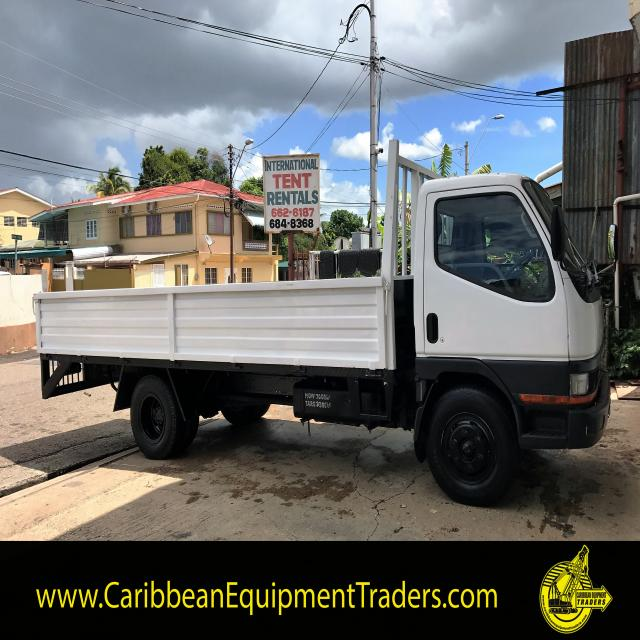truck: (37, 172, 609, 500)
